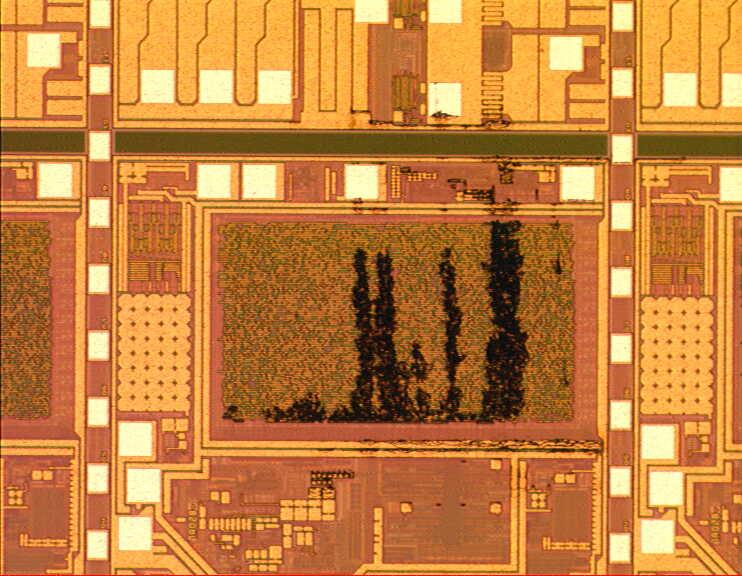SCRATCH: (211, 97, 604, 468)
